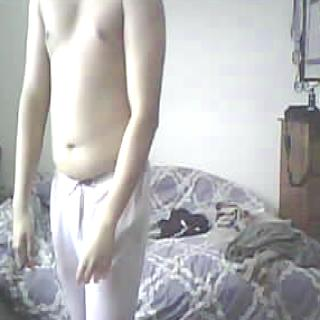White Sweatpants: (44, 151, 166, 320)
